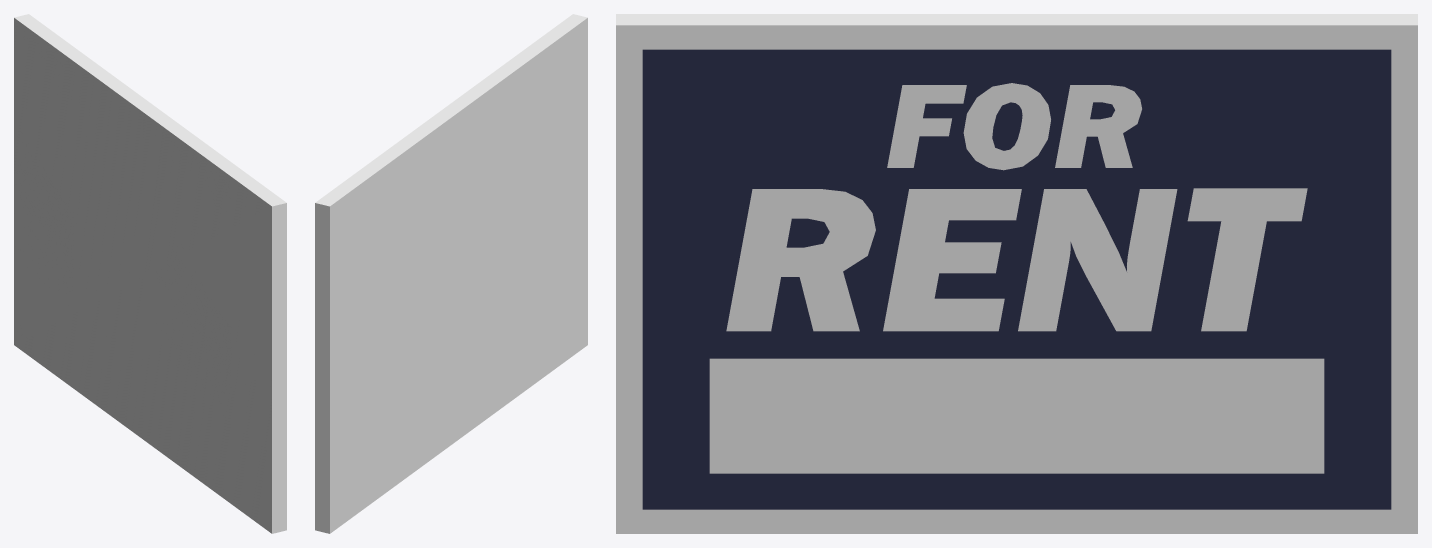
Rendered from SM_billboard_forRent.gltf.
3 views of the same model, side by side, from view 1: azimuth 30°, elevation 25°; view 2: azimuth 150°, elevation 25°; view 3: azimuth 270°, elevation 25° (orthographic). The views are drawn at different scales.
Visible parts, largest first — view 1: SM_billboard_forRent; view 2: SM_billboard_forRent; view 3: SM_billboard_forRent.
Boxes of the visible parts, x1=… form: SM_billboard_forRent: x1=14, y1=14, x2=286, y2=533; SM_billboard_forRent: x1=315, y1=14, x2=587, y2=533; SM_billboard_forRent: x1=616, y1=14, x2=1417, y2=533.
Bounding box in the file's own units: 0.0825 × 1.57 × 2.25.
1 material, 1 textured.
